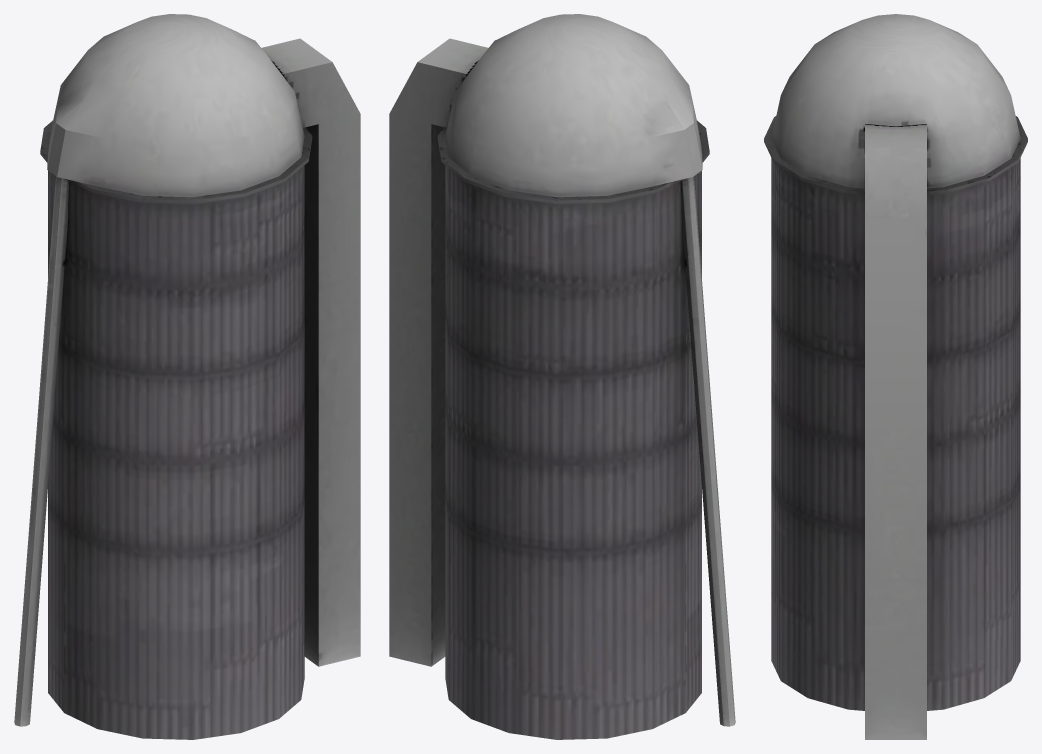
3 renders of one model, left to right at view 1: azimuth 30°, elevation 25°; view 2: azimuth 150°, elevation 25°; view 3: azimuth 270°, elevation 25°, orthographic. The views are drawn at different scales.
Visible parts, largest first — view 1: body0_model0_lod0_mesh0; view 2: body0_model0_lod0_mesh0; view 3: body0_model0_lod0_mesh0.
Part boxes in pixels (x1,y1,x2,y2): body0_model0_lod0_mesh0: [14, 14, 360, 739]; body0_model0_lod0_mesh0: [389, 14, 735, 739]; body0_model0_lod0_mesh0: [764, 14, 1027, 739].
Bounding box in the file's own units: 23.5 × 45 × 16.94.
1 material, 1 textured.
